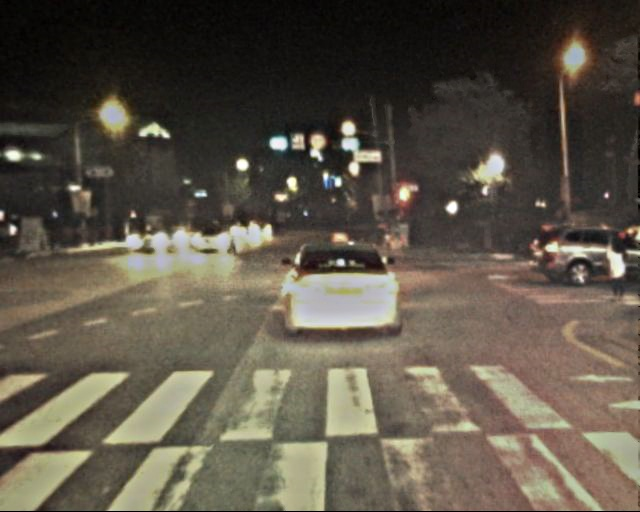person: (599, 229, 631, 306)
